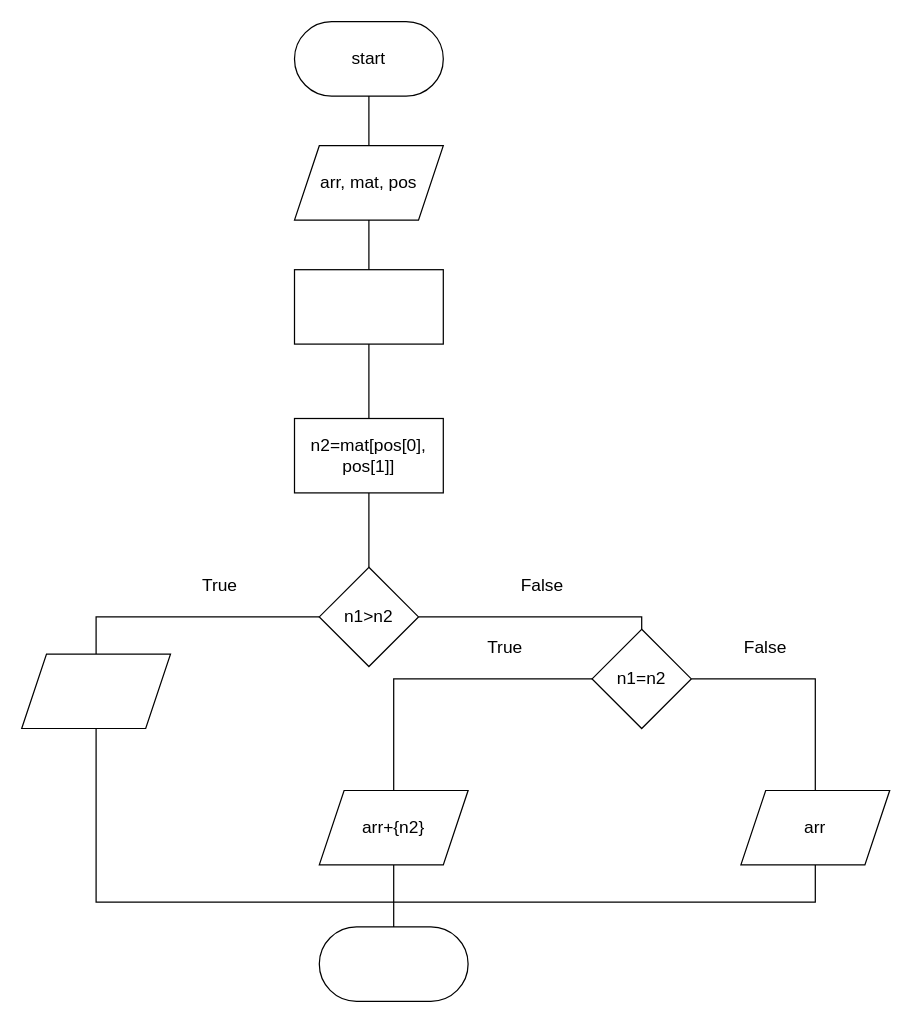
The diagram is 911 pixels wide and 1023 high, and some of its shapes have lost their labels. The shapes that lost their labels are listed below. From the top down, each one's centre as x and y in pixels, then its label:
At point 368,306: "n1=mat[arr[0][0] arr[0][1]]".
At point 95,690: "{n2}".
At point 393,963: "end".
